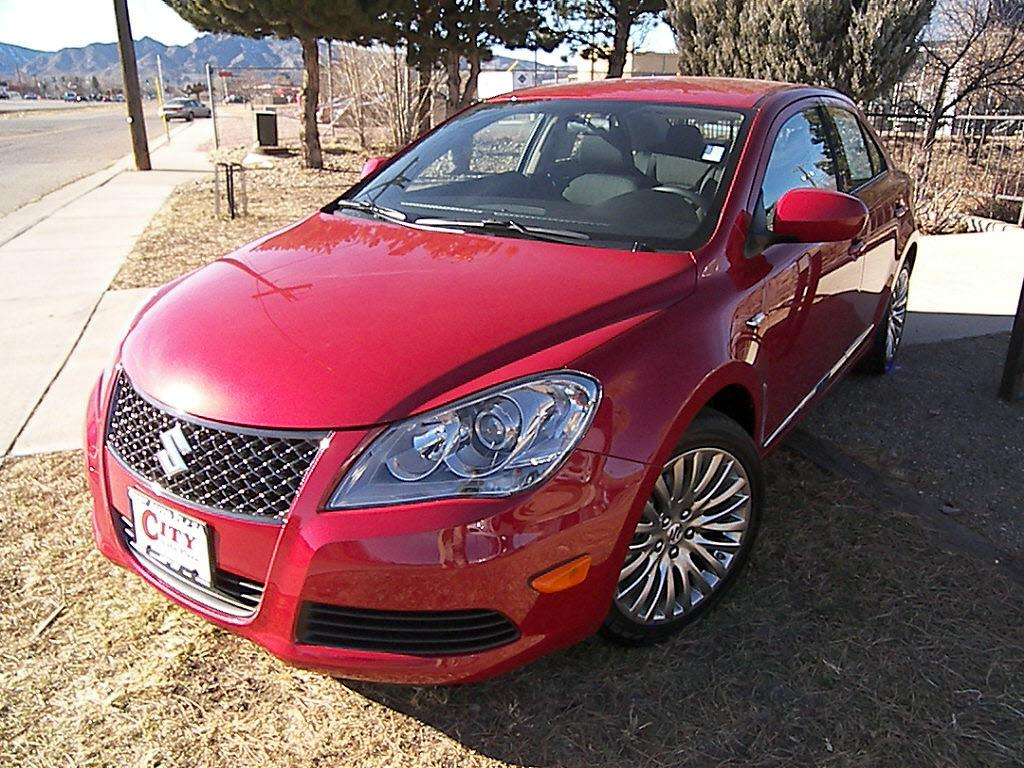Sedan: (81, 72, 921, 688)
